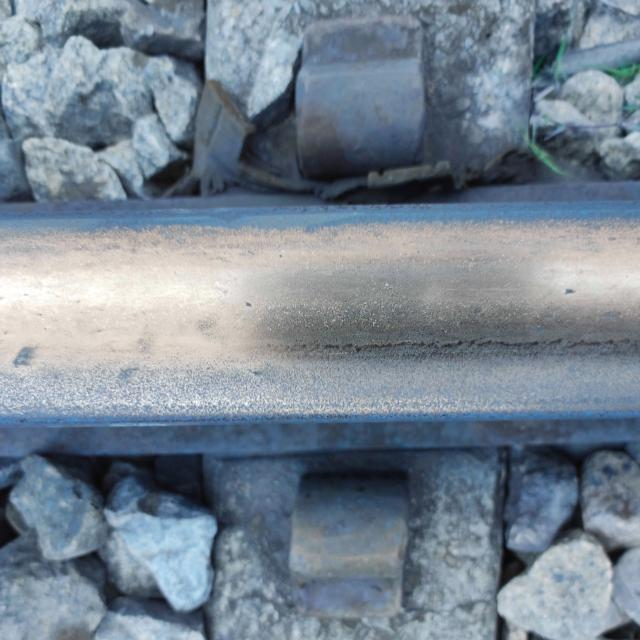Missing Fastener: (233, 441, 477, 640), (260, 14, 482, 187)
